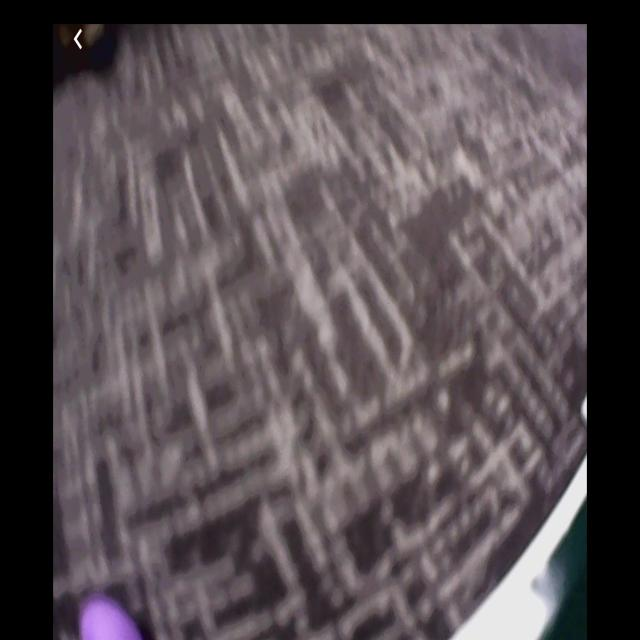ball: (78, 597, 144, 640)
